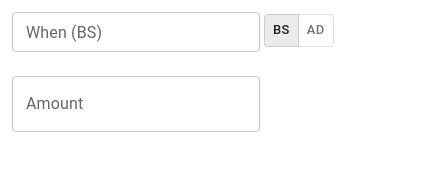
fields › enters BS, sends AD, and refuses dates outside the verified calendar
Type "2083-06-30" into the field labelled "When (BS)".
click(136, 32); type("2083-06-30")  # box [12,12,260,52]
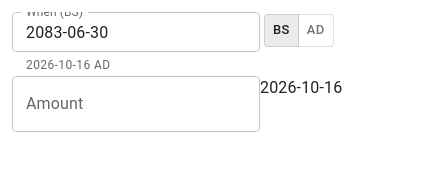
Check: the text "2026-10-16" is shown, box [260,78,342,97]
Replace the text in the field labelled "When (BS)" with "2090-01-01" at (136, 32), box [12,12,260,52]
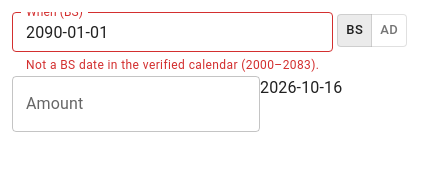
Check: the text "Not a BS date in the verified calendar (2000–2083)." is shown, box [26,56,319,76]
